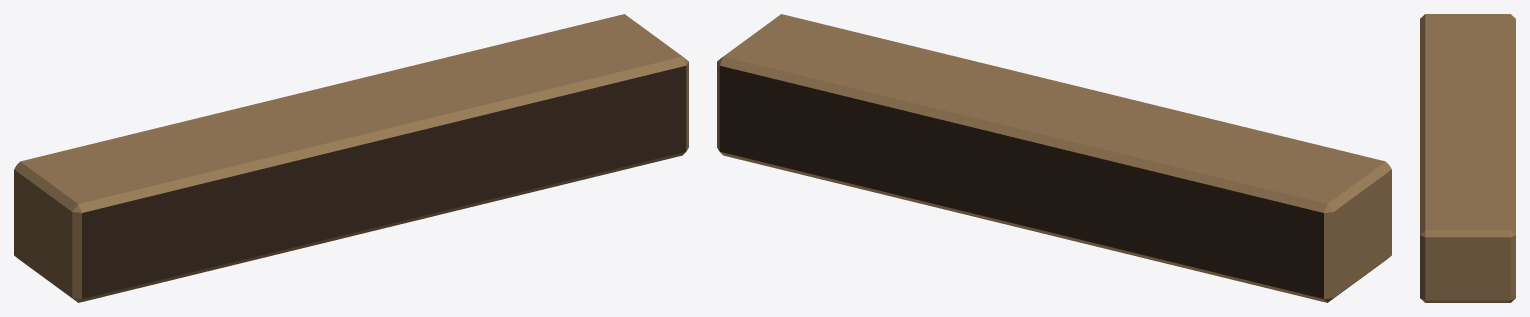
3 views of the same model, side by side, from view 1: azimuth 30°, elevation 25°; view 2: azimuth 150°, elevation 25°; view 3: azimuth 270°, elevation 25° (orthographic). The views are drawn at different scales.
Parts seen in each view (by area): view 1: Glyph; view 2: Glyph; view 3: Glyph.
Part boxes in pixels (x1,y1,x2,y2): Glyph: [14, 14, 688, 302]; Glyph: [717, 14, 1391, 302]; Glyph: [1420, 14, 1515, 302].
Size of the model in its own units: 0.6 by 0.092 by 0.11.
